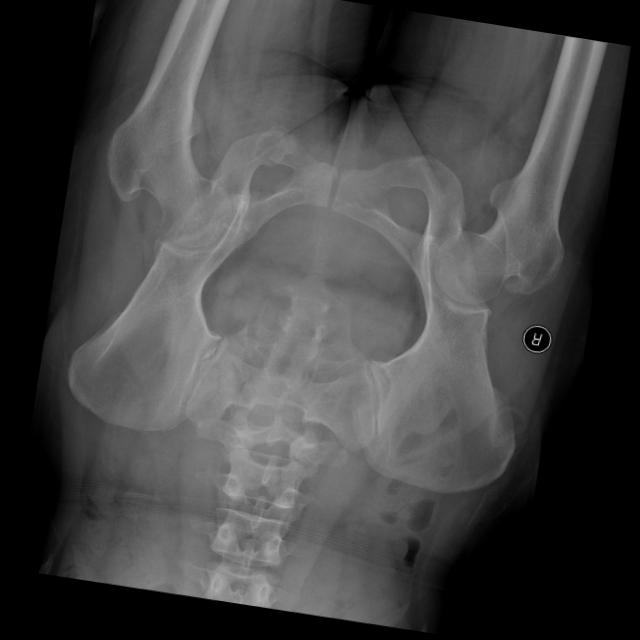normal-left: (105, 0, 232, 247)
normal-right: (434, 76, 596, 304)
